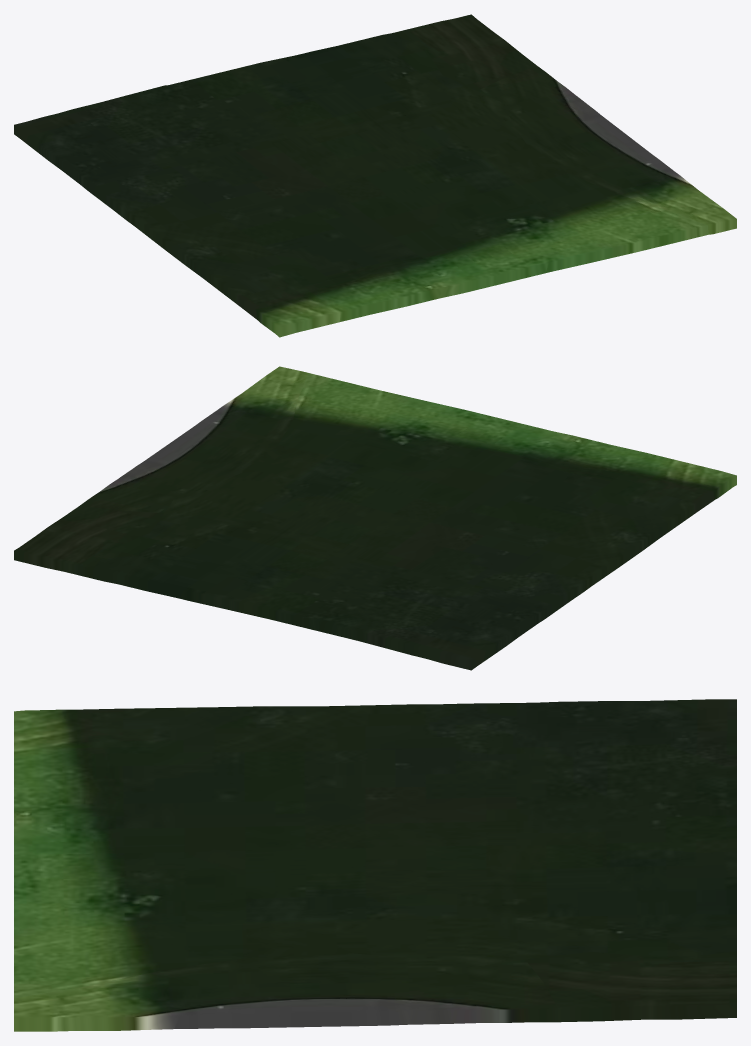
File: z20-167783-405218-h0-yup-uvflip-v3-world.glb
The picture shows the model from 3 angles, top to bottom: view 1: azimuth 30°, elevation 25°; view 2: azimuth 150°, elevation 25°; view 3: azimuth 270°, elevation 25°; orthographic projection. The views are drawn at different scales.
Bounding box in the file's own units: 30.16 × 1.48 × 30.32.
Materials: 1 (1 with a texture image).
